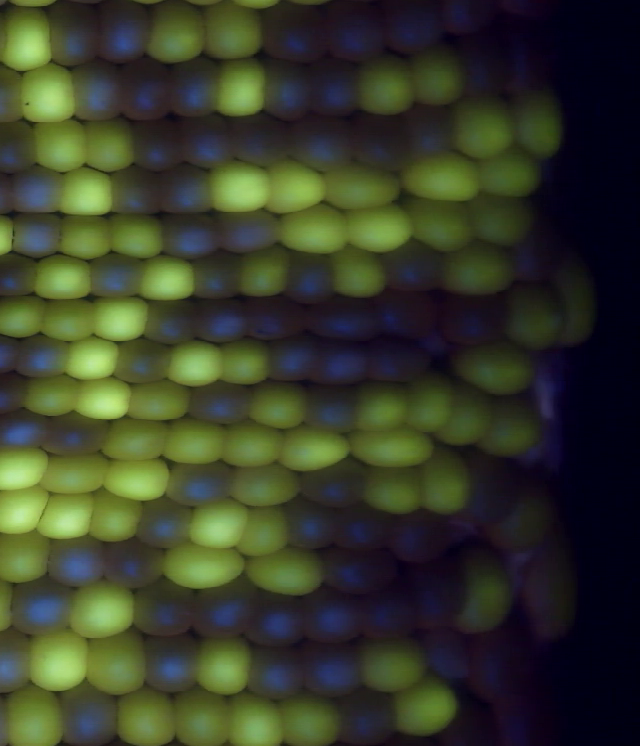fluorescent: (478, 461, 561, 557), (448, 535, 516, 643), (523, 543, 587, 650), (447, 335, 544, 403), (546, 245, 605, 354), (496, 276, 574, 358), (346, 46, 426, 122), (447, 91, 526, 167), (473, 388, 553, 463), (500, 76, 568, 164), (350, 629, 435, 699), (396, 148, 490, 209), (241, 541, 335, 601), (24, 623, 97, 700), (429, 239, 521, 300), (188, 628, 261, 704), (399, 36, 472, 111), (155, 538, 252, 594), (319, 155, 408, 216), (63, 576, 143, 642), (201, 156, 284, 219), (429, 377, 500, 450), (402, 193, 482, 257), (82, 629, 153, 701), (346, 421, 442, 474), (257, 153, 333, 219), (414, 443, 478, 521), (460, 190, 539, 253), (387, 672, 463, 737), (336, 202, 421, 260), (273, 202, 358, 259), (205, 52, 273, 123), (271, 424, 360, 478), (195, 1, 270, 65), (472, 142, 547, 206), (354, 459, 433, 519), (0, 2, 63, 77), (0, 682, 73, 746), (94, 452, 177, 508), (270, 687, 348, 746), (184, 496, 259, 557), (325, 241, 395, 306), (16, 59, 83, 126), (218, 687, 294, 746), (169, 682, 239, 746), (113, 684, 185, 746), (95, 415, 179, 468), (225, 460, 307, 514), (159, 412, 239, 467), (34, 447, 118, 499), (215, 416, 292, 472), (245, 376, 316, 435), (83, 486, 150, 548), (117, 377, 198, 428), (160, 337, 231, 395), (79, 113, 142, 178), (350, 378, 423, 434), (142, 1, 210, 61), (53, 161, 120, 221), (26, 116, 94, 175), (27, 250, 101, 304), (19, 367, 90, 422), (403, 368, 457, 440), (51, 208, 120, 264), (68, 371, 138, 426), (105, 206, 170, 265), (135, 250, 204, 305), (36, 293, 105, 348), (233, 501, 295, 562), (232, 243, 296, 302), (0, 524, 56, 591), (34, 488, 99, 544), (87, 290, 154, 344), (214, 331, 275, 390), (58, 334, 126, 385), (0, 483, 55, 541), (0, 440, 56, 495), (0, 292, 52, 340)
nonfluorescent: (468, 616, 539, 706), (455, 2, 520, 98), (458, 446, 529, 528), (398, 558, 473, 634), (436, 287, 517, 355), (343, 103, 419, 175), (315, 1, 394, 69), (49, 679, 129, 746), (129, 574, 202, 645), (192, 575, 268, 643), (5, 573, 82, 640), (257, 3, 336, 68), (108, 53, 180, 124), (134, 629, 209, 697), (293, 583, 371, 648), (223, 110, 302, 174), (238, 642, 317, 706), (89, 1, 162, 70), (254, 57, 325, 127), (286, 111, 360, 177), (162, 50, 227, 125), (376, 236, 451, 300), (509, 210, 571, 287), (368, 286, 452, 342), (384, 507, 462, 567), (317, 546, 403, 600), (302, 294, 393, 345), (45, 1, 109, 73), (173, 111, 245, 175), (292, 458, 377, 512), (243, 590, 313, 655), (329, 686, 404, 746), (129, 494, 202, 555), (158, 458, 245, 509), (297, 638, 366, 702), (39, 534, 113, 593), (375, 1, 449, 59), (118, 118, 192, 176), (69, 59, 131, 128), (399, 99, 464, 164), (307, 335, 380, 392), (153, 158, 219, 221), (300, 380, 368, 441), (101, 536, 173, 593), (181, 377, 258, 430), (38, 410, 115, 463), (328, 502, 400, 558), (305, 57, 366, 123), (9, 160, 73, 222), (279, 495, 346, 554), (354, 585, 423, 642), (105, 165, 173, 222), (361, 336, 438, 386), (280, 246, 341, 309), (186, 296, 258, 349), (157, 208, 226, 263), (259, 330, 324, 388), (214, 206, 287, 257), (244, 292, 313, 345), (143, 292, 204, 350), (108, 338, 176, 390), (84, 250, 149, 303), (188, 248, 248, 303), (420, 626, 477, 683), (7, 207, 65, 263), (15, 332, 77, 384), (0, 624, 39, 699), (0, 405, 54, 458), (0, 114, 41, 176), (432, 1, 495, 39), (0, 248, 44, 302), (0, 62, 30, 131), (0, 368, 32, 421)
